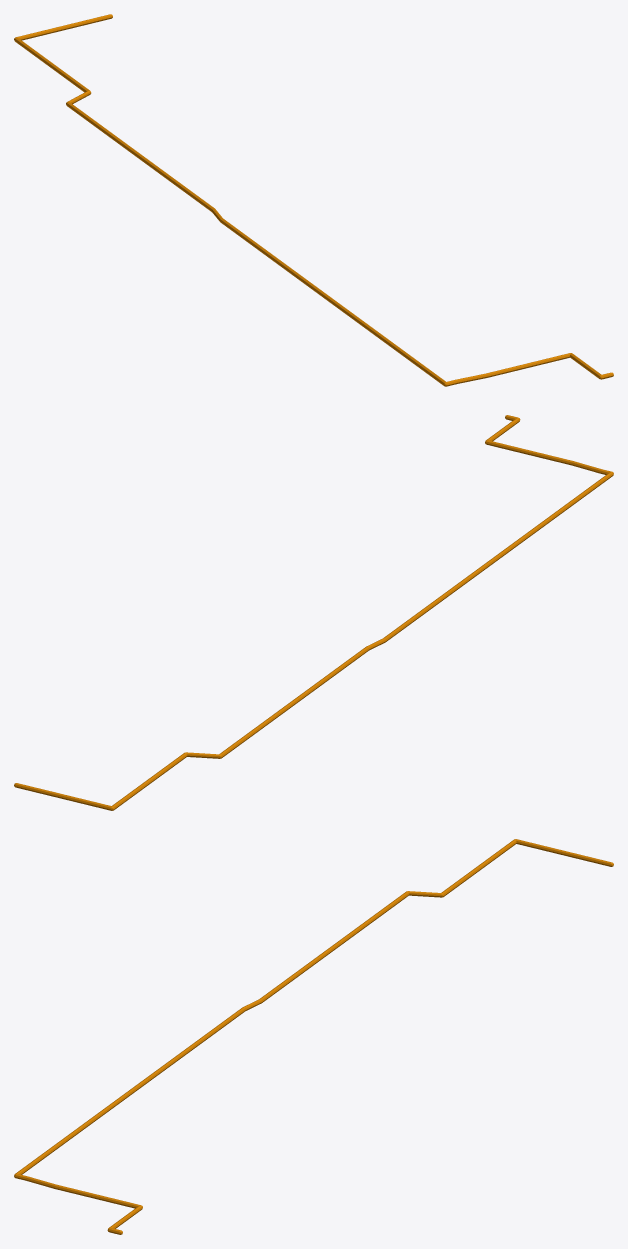
3 renders of one model, top to bottom at view 1: azimuth 30°, elevation 25°; view 2: azimuth 150°, elevation 25°; view 3: azimuth 330°, elevation 25°, orthographic.
Size of the model in its own units: 660 by 20 by 4083.
